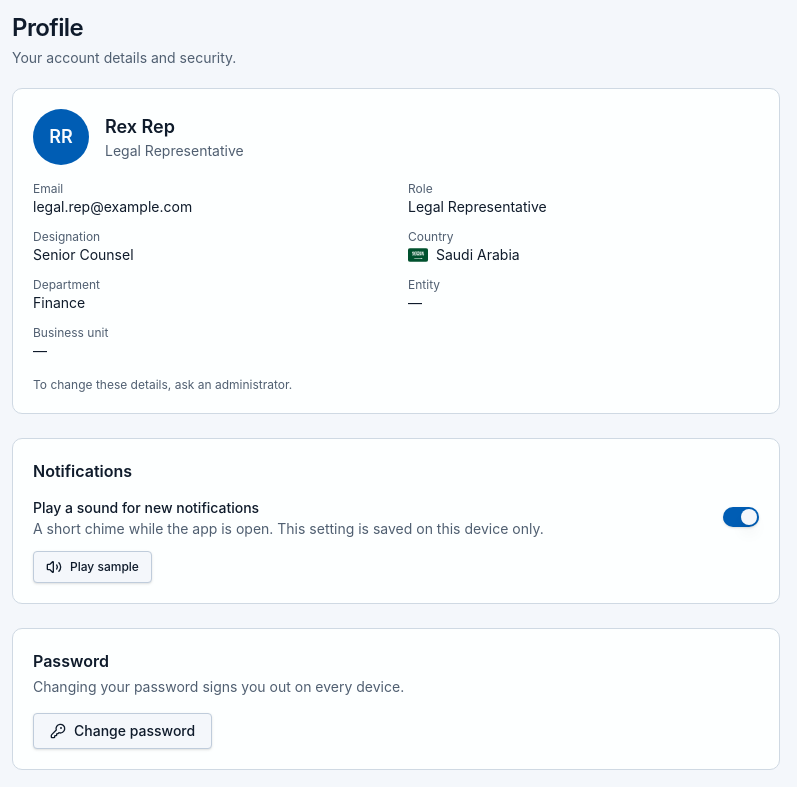
Scenario: ProfilePage › lets the person turn the notification sound off, and keeps the choice
Click the switch named "play a sound for new notifications" at (741, 517), box [723, 507, 759, 527]
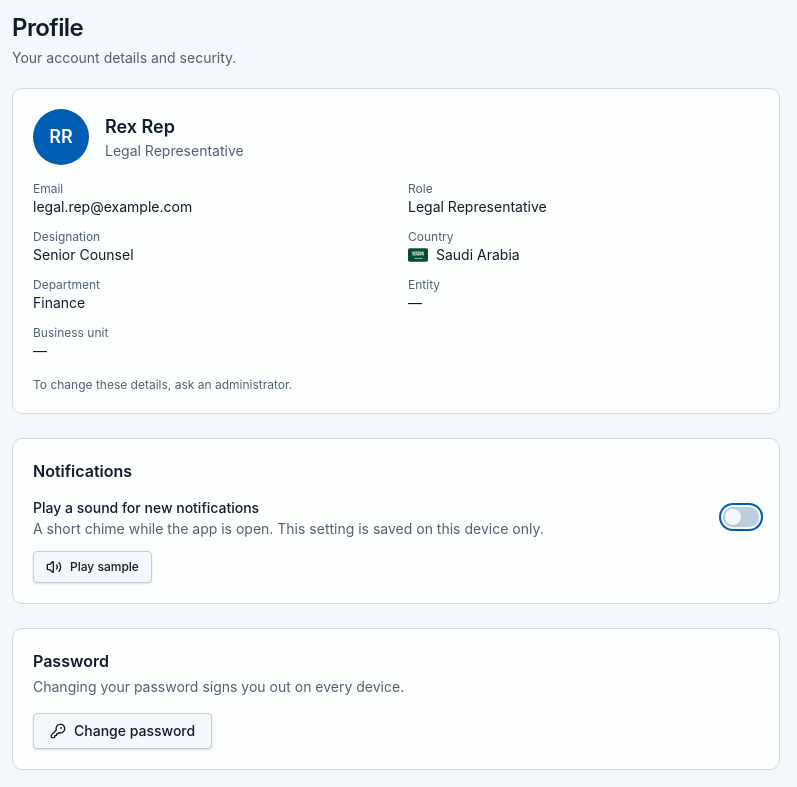
Expected: the switch named "play a sound for new notifications" is not checked, [723, 507, 759, 527]
